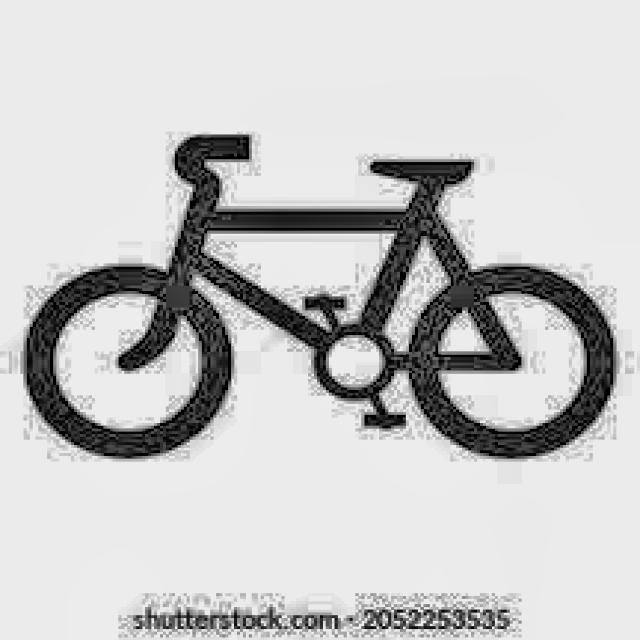bicycle: (19, 124, 624, 477)
